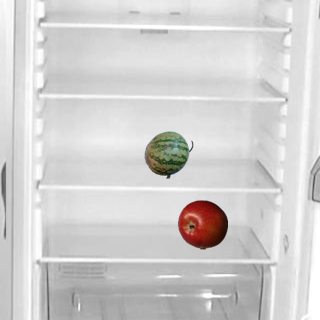Apple Braeburn: (177, 199, 227, 249)
Watermelon: (143, 129, 193, 179)
